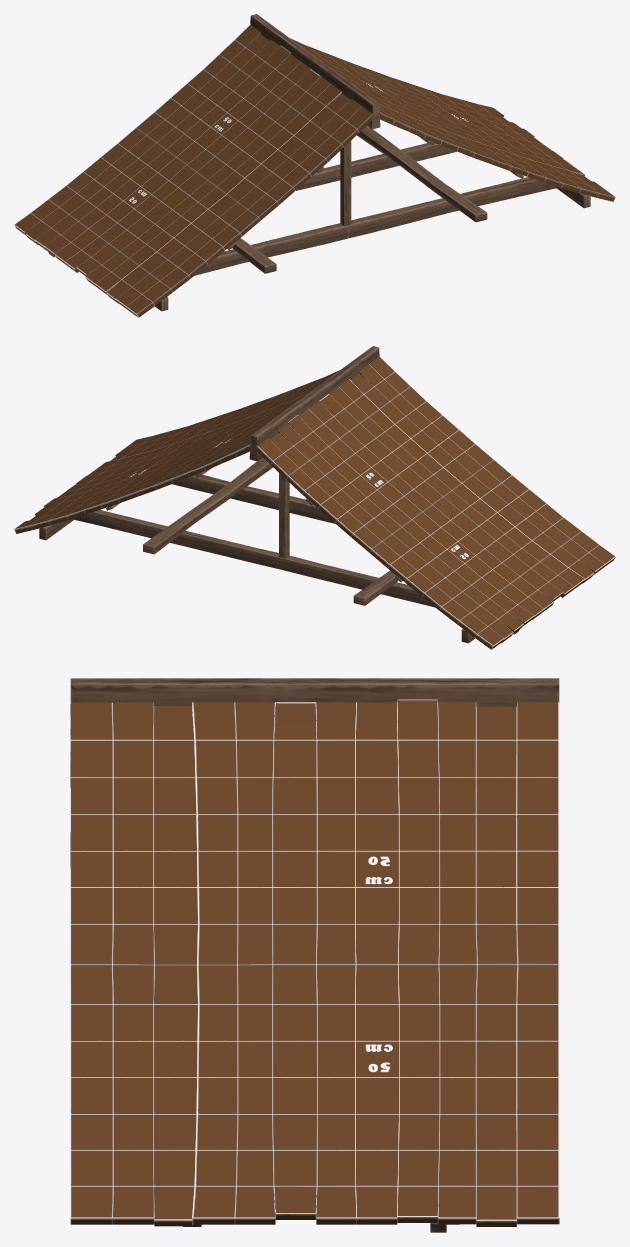
Rendered from Hangar01RM_3.FBX.
3 renders of one model, top to bottom at view 1: azimuth 30°, elevation 25°; view 2: azimuth 150°, elevation 25°; view 3: azimuth 270°, elevation 25°, orthographic. The views are drawn at different scales.
Parts seen in each view (by area): view 1: Hangar01RM_3; view 2: Hangar01RM_3; view 3: Hangar01RM_3.
Part boxes in pixels (left/top/right/bottom): Hangar01RM_3: left=14, top=14, right=615, bottom=317; Hangar01RM_3: left=14, top=346, right=615, bottom=649; Hangar01RM_3: left=70, top=678, right=559, bottom=1232.
Size of what is drawn, in the model's own units: 10.22 by 3.3 by 4.5.
